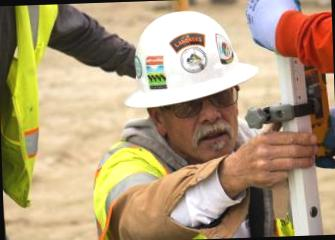helmet: (124, 8, 252, 105)
person: (86, 6, 303, 240)
